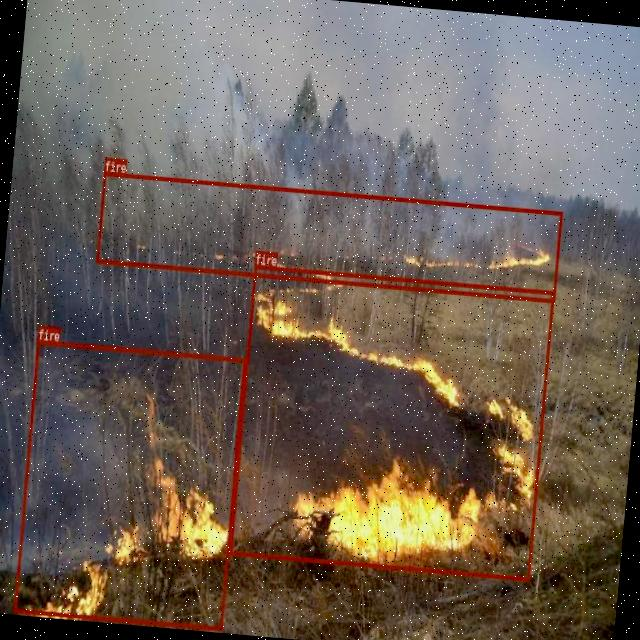fire: (229, 264, 554, 580), (13, 340, 245, 630), (95, 170, 562, 302)
